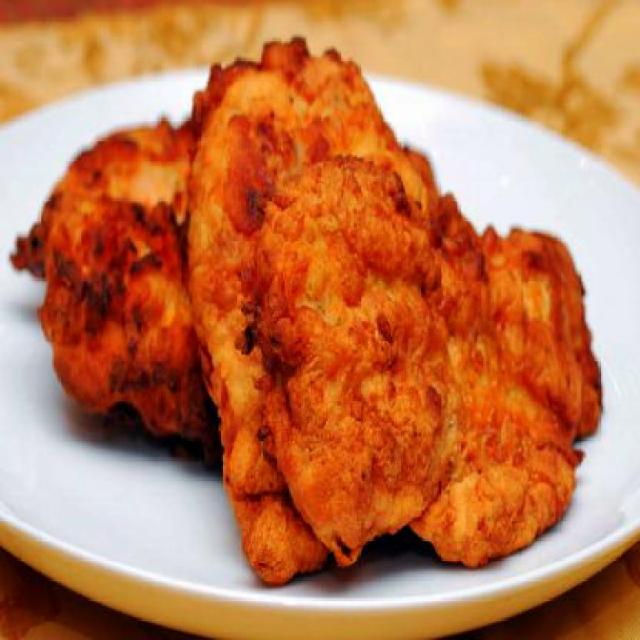Frango: (59, 70, 632, 544)
